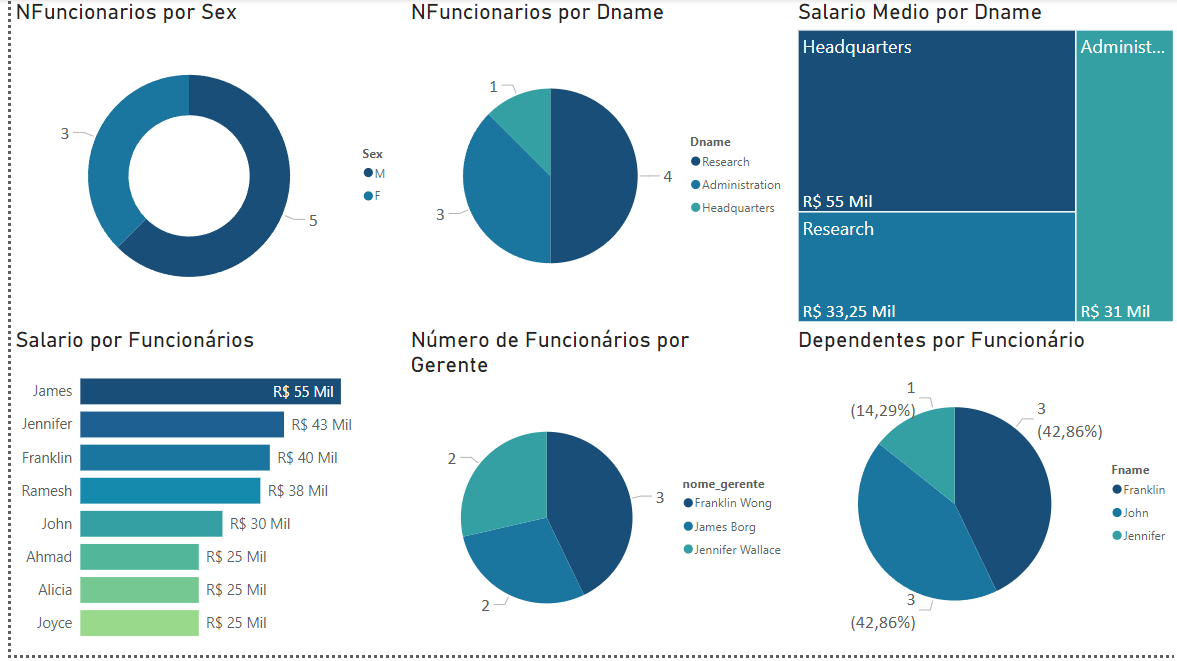

What the dashboard file says about the page in this screenshot:
{"tool":"powerbi","page":{"name":"Página 1","canvas":[1280,720],"ordinal":0},"visuals":[{"type":"clusteredColumnChart","title":"Número de Funcionários por Gerente","fields":{"Category":["powerbi employee.nome_gerente"],"Y":["powerbi employee.Medida"]},"box":[527.5,530,290,190],"z":0},{"type":"pieChart","title":"Dependentes por Funcionário","fields":{"Category":["powerbi employee.Fname"],"Y":["powerbi dependent.NDependentes"]},"box":[857.5,360,422.5,360],"z":1000},{"type":"clusteredBarChart","title":"Salario por Funcionários","fields":{"Category":["powerbi employee.Fname"],"Y":["powerbi employee.Salary"]},"box":[0,360,432.5,360],"z":2000},{"type":"donutChart","fields":{"Y":["powerbi employee.NFuncionarios"],"Category":["powerbi employee.Sex"]},"box":[0,0,433.3,360],"z":3000},{"type":"pieChart","fields":{"Category":["powerbi employee.Dname"],"Y":["powerbi employee.NFuncionarios"]},"box":[433.3,0,425,360],"z":4000},{"type":"pieChart","title":"Número de Funcionários por Gerente","fields":{"Category":["powerbi employee.nome_gerente"],"Y":["powerbi employee.NFuncionarios"]},"box":[432.5,360,425,360],"z":5000},{"type":"treemap","fields":{"Group":["powerbi employee.Dname"],"Values":["powerbi employee.Salario Medio"]},"box":[858.3,0,421.7,360],"z":6000}]}

Visuals, with their boxes in screenshot pixels (x1, y1, x2, y2), scaled from the page's 1280x720 canvas onto the 1177x661 screenshot:
"Número de Funcionários por Gerente" clusteredColumnChart: x1=485 y1=487 x2=752 y2=660
"Dependentes por Funcionário" pieChart: x1=788 y1=330 x2=1176 y2=660
"Salario por Funcionários" clusteredBarChart: x1=0 y1=330 x2=398 y2=660
donutChart - powerbi employee.NFuncionarios x powerbi employee.Sex: x1=0 y1=0 x2=398 y2=330
pieChart - powerbi employee.Dname x powerbi employee.NFuncionarios: x1=398 y1=0 x2=789 y2=330
"Número de Funcionários por Gerente" pieChart: x1=398 y1=330 x2=788 y2=660
treemap - powerbi employee.Dname x powerbi employee.Salario Medio: x1=789 y1=0 x2=1176 y2=330
